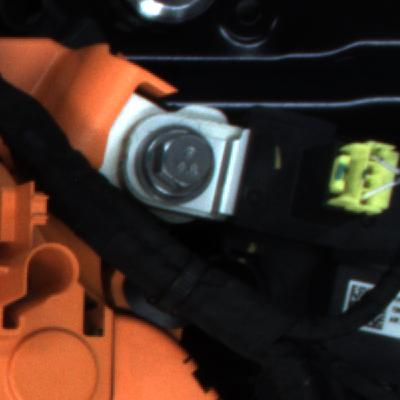nut_b: (137, 129, 217, 205)
